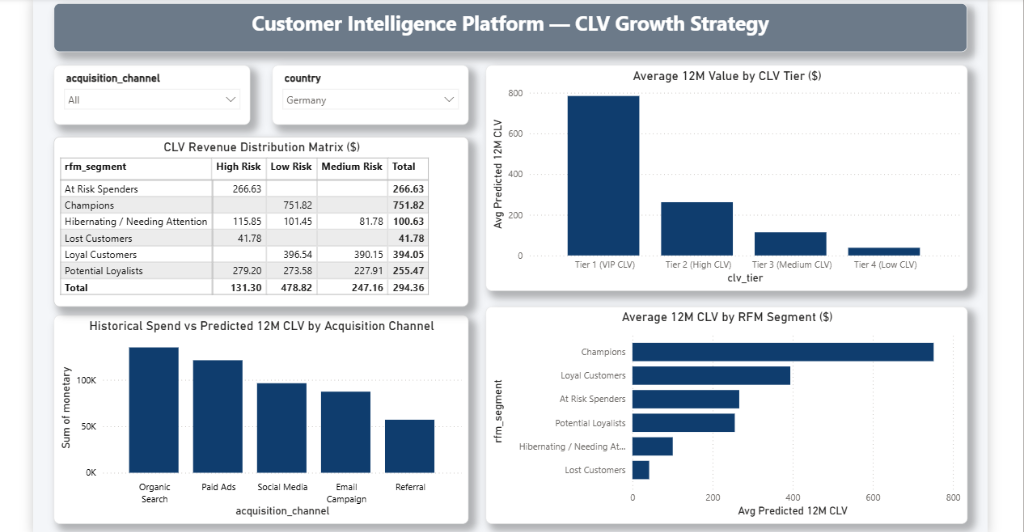

Layout of this report page (visuals, bound fields, positions):
{"tool":"powerbi","page":{"name":"CLV Growth Strategy","canvas":[1280,720],"ordinal":2},"visuals":[{"type":"slicer","title":"Acquisition_channel","fields":{"Values":["Dim_Customer_Analytics.acquisition_channel"]},"box":[27.7,89.5,263.5,79.7],"z":0},{"type":"textbox","box":[27.7,6.5,1224.8,65.1],"z":1000},{"type":"slicer","title":"Country","fields":{"Values":["Dim_Customer_Analytics.country"]},"box":[320.4,89.5,263.5,79.7],"z":2000},{"type":"clusteredBarChart","title":"Average 12M CLV by RFM Segment ($)","fields":{"Category":["Dim_Customer_Analytics.rfm_segment"],"Y":["Dim_Customer_Analytics.Avg Predicted 12M CLV"]},"box":[606.7,413.1,645.7,291.2],"z":3000},{"type":"clusteredColumnChart","title":"Average 12M Value by CLV Tier ($)","fields":{"Category":["Dim_Customer_Analytics.clv_tier"],"Y":["Dim_Customer_Analytics.Avg Predicted 12M CLV"]},"box":[606.7,89.5,645.7,302.5],"z":4000},{"type":"clusteredColumnChart","title":"Historical Spend vs Predicted 12M CLV by Acquisition Channel","fields":{"Category":["Dim_Customer_Analytics.acquisition_channel"],"Y":["Sum(Dim_Customer_Analytics.monetary)"]},"box":[27.7,424.5,556.3,279.8],"z":5000},{"type":"pivotTable","title":"CLV Revenue Distribution Matrix ($)","fields":{"Columns":["Dim_Customer_Analytics.risk_tier"],"Rows":["Dim_Customer_Analytics.rfm_segment"],"Values":["Dim_Customer_Analytics.Avg Predicted 12M CLV"]},"box":[27.7,185.4,556.3,227.7],"z":6000}]}

Visuals, with their boxes on the page's 1280x720 design canvas (x1, y1, x2, y2). These are canvas units, not pixel positions in the 1024x532 screenshot, which may show the page scaled, cropped or inside an application window:
"Acquisition_channel" slicer: left=28, top=90, right=291, bottom=169
textbox: left=28, top=6, right=1252, bottom=72
"Country" slicer: left=320, top=90, right=584, bottom=169
"Average 12M CLV by RFM Segment ($)" clusteredBarChart: left=607, top=413, right=1252, bottom=704
"Average 12M Value by CLV Tier ($)" clusteredColumnChart: left=607, top=90, right=1252, bottom=392
"Historical Spend vs Predicted 12M CLV by Acquisition Channel" clusteredColumnChart: left=28, top=424, right=584, bottom=704
"CLV Revenue Distribution Matrix ($)" pivotTable: left=28, top=185, right=584, bottom=413
